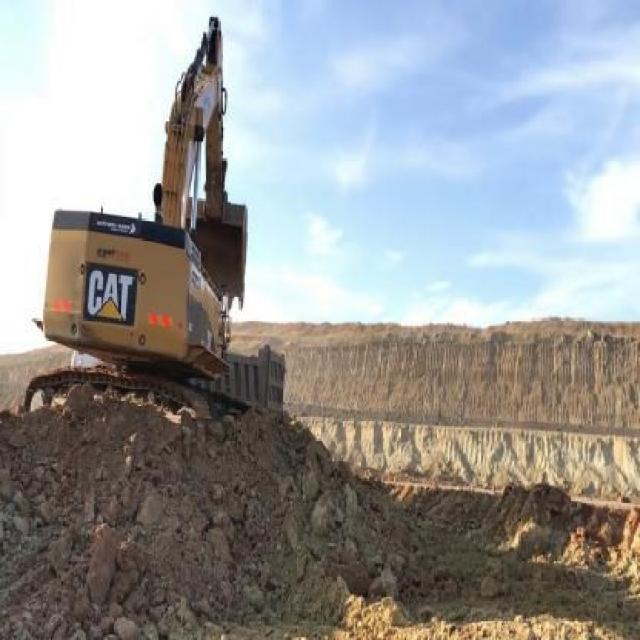Dump Truck: (215, 345, 287, 409)
Excavator: (23, 11, 249, 426)
